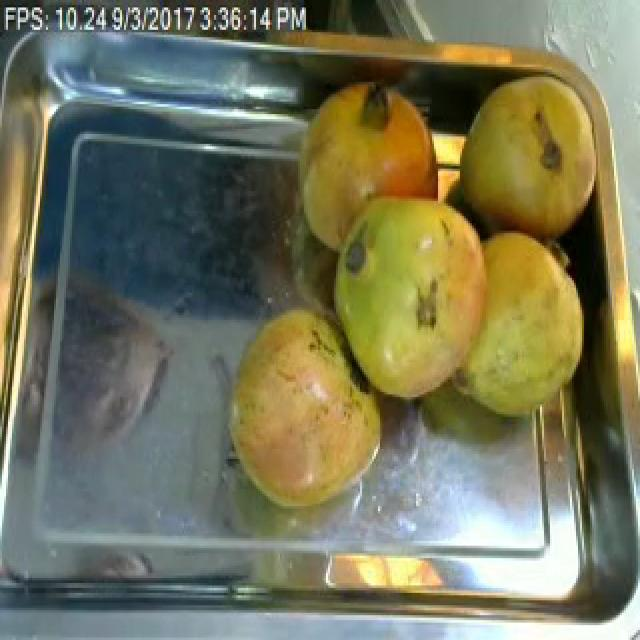fruit: (314, 176, 506, 424), (214, 295, 396, 526), (444, 218, 594, 432), (448, 60, 614, 253), (288, 72, 448, 216)
